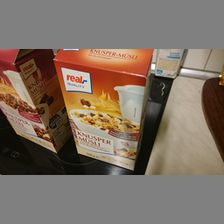cereal: (52, 49, 153, 171), (2, 49, 69, 153)
